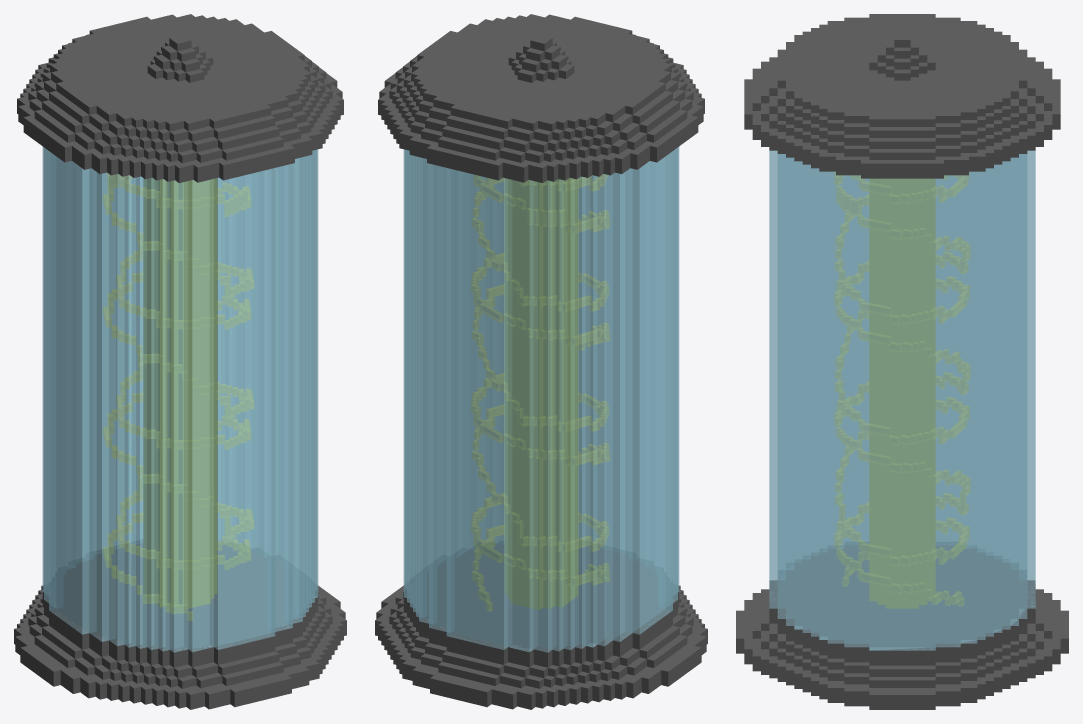
The model's file is ElectricalSource 1.fbx.
The picture shows the model from 3 angles, left to right: view 1: azimuth 30°, elevation 25°; view 2: azimuth 150°, elevation 25°; view 3: azimuth 270°, elevation 25°; orthographic projection.
Visible parts, largest first — view 1: ObjObject.003, ObjObject.002, ObjObject.001, ObjObject.004, ObjObject; view 2: ObjObject.003, ObjObject.002, ObjObject.001, ObjObject.004, ObjObject; view 3: ObjObject.003, ObjObject.002, ObjObject.001, ObjObject, ObjObject.004.
Boxes of the visible parts, box(x1,y1,x2,y2) form: ObjObject.003: box(42, 146, 318, 652); ObjObject.002: box(14, 14, 346, 709); ObjObject.001: box(144, 178, 216, 608); ObjObject.004: box(117, 175, 250, 569); ObjObject: box(103, 174, 253, 620); ObjObject.003: box(403, 146, 679, 652); ObjObject.002: box(375, 14, 707, 709); ObjObject.001: box(505, 178, 577, 609); ObjObject.004: box(472, 174, 608, 610); ObjObject: box(471, 175, 609, 585); ObjObject.003: box(769, 150, 1035, 650); ObjObject.002: box(736, 14, 1068, 709); ObjObject.001: box(869, 179, 935, 608); ObjObject: box(835, 172, 969, 586); ObjObject.004: box(835, 172, 969, 606).
Size of the model in its own units: 97.17 by 194 by 97.17.
